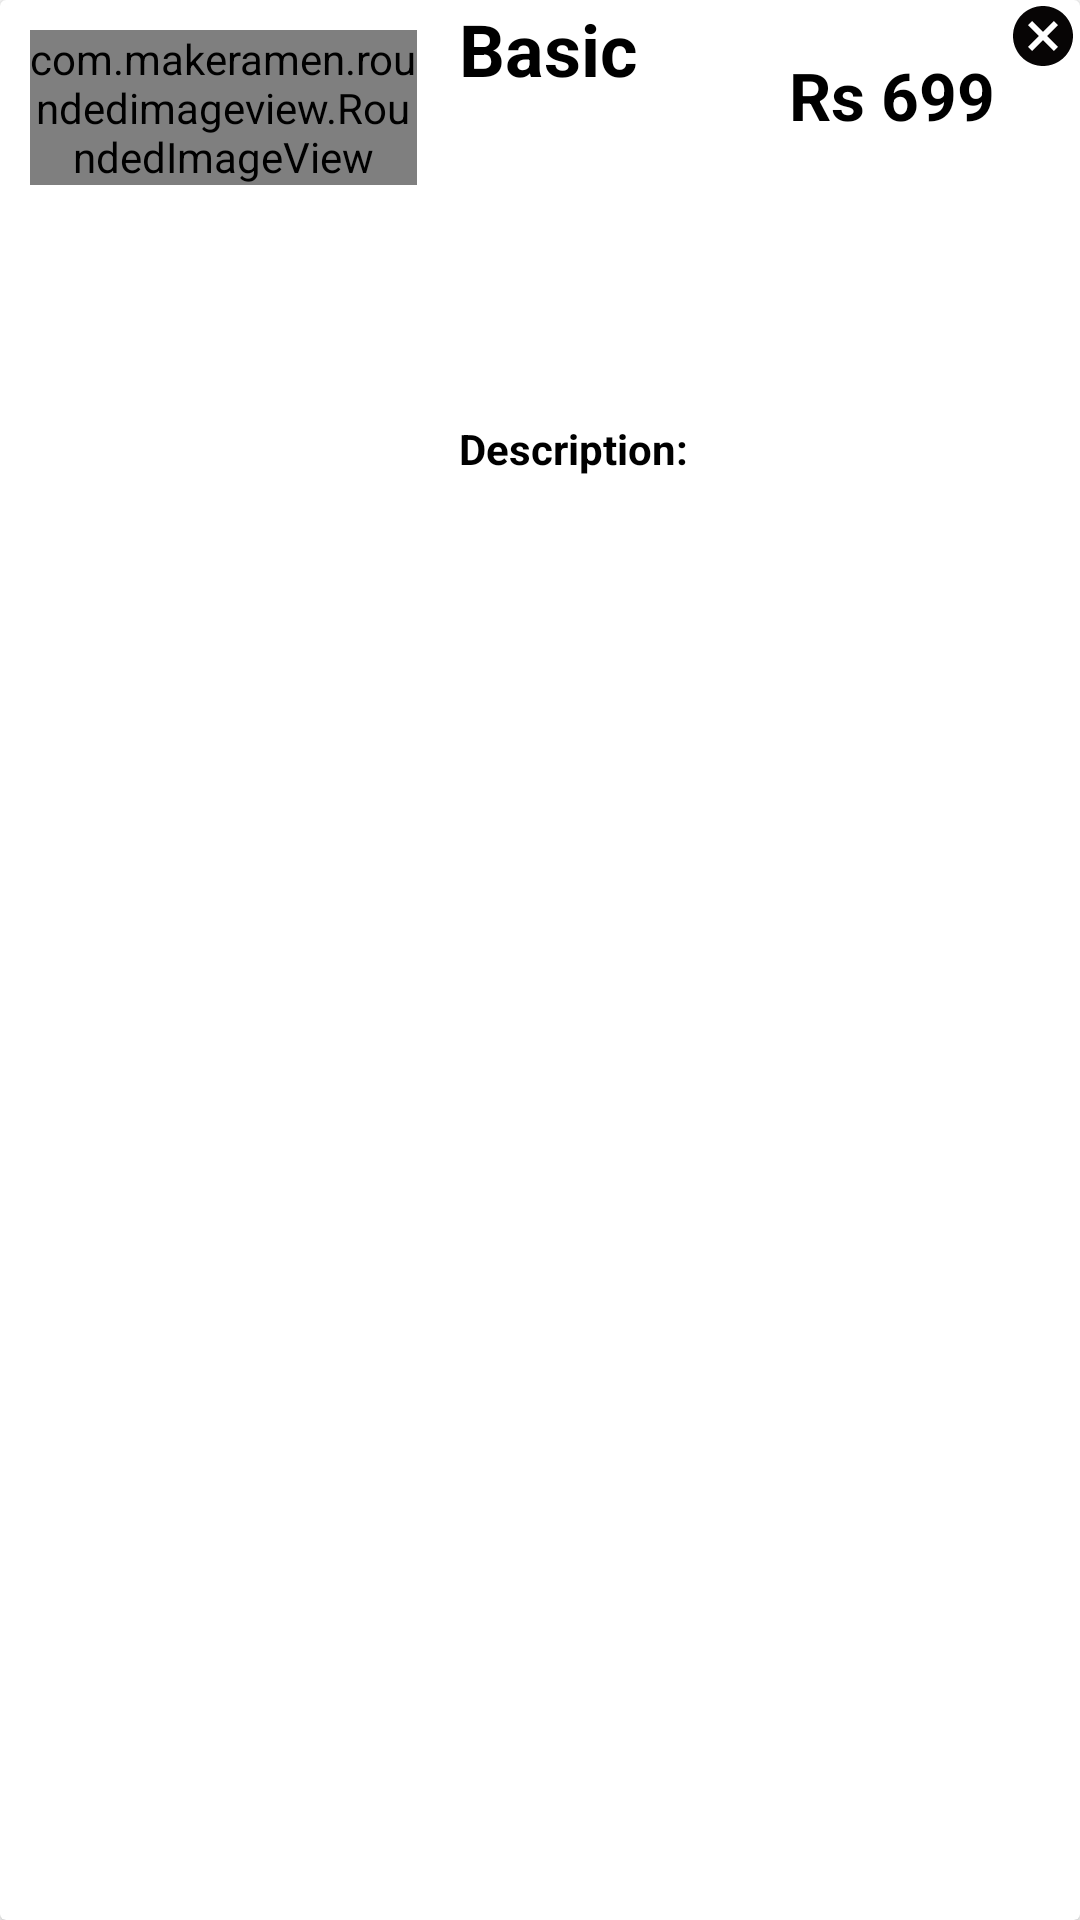

Icon bounding boxes for this 1080px×1920px phone screenshot, format {"x1": x1, "y1": y1, "x2": x2, "y2": y2}:
cancel: {"x1": 1013, "y1": 6, "x2": 1073, "y2": 66}
